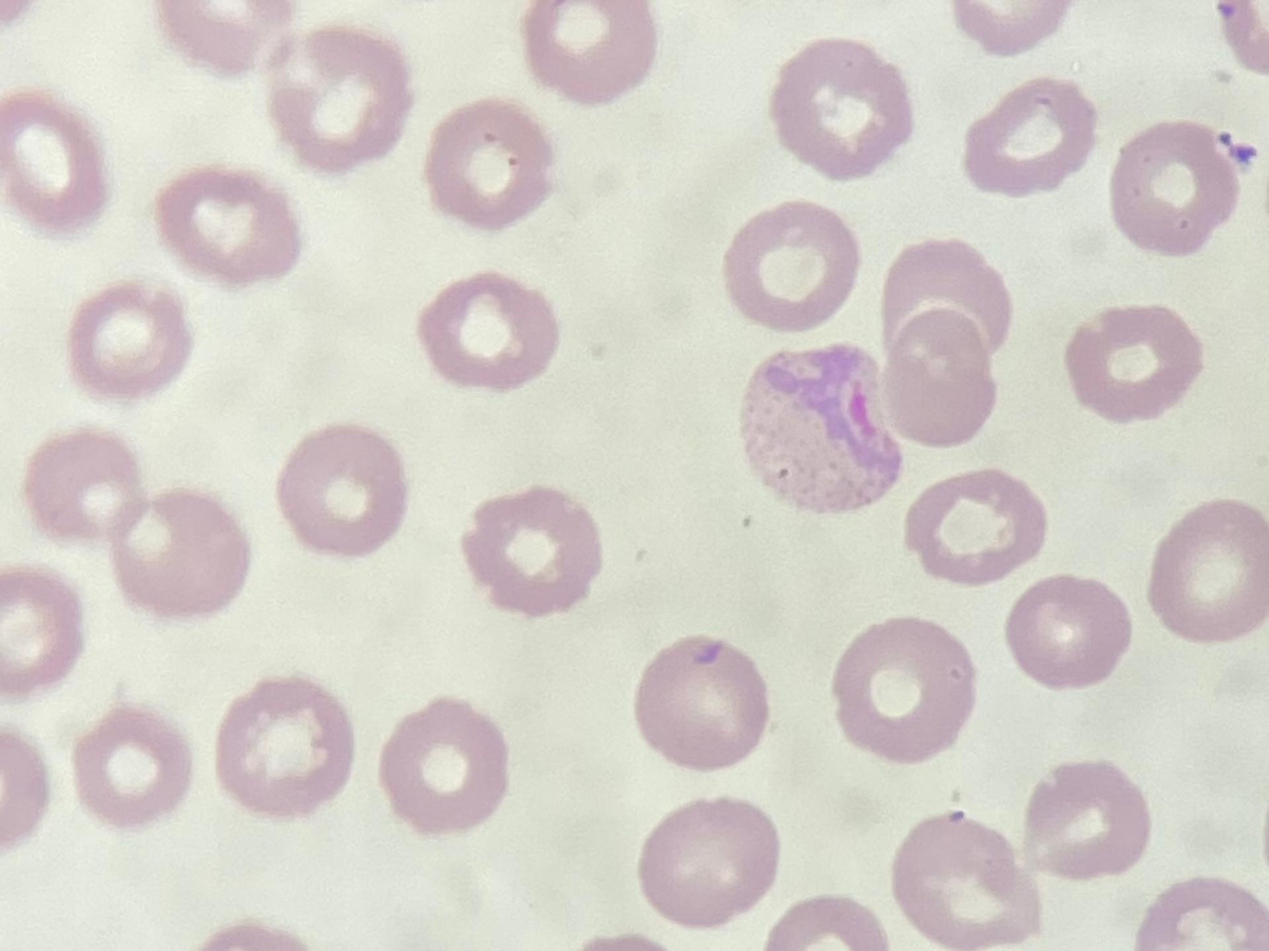Infected: (368, 437, 529, 607)
Uninfected: (293, 189, 436, 332), (855, 779, 1001, 919), (354, 771, 499, 911), (231, 3, 377, 138), (917, 133, 1054, 267), (27, 695, 161, 832), (760, 113, 890, 253), (1019, 332, 1160, 461), (667, 334, 806, 463), (490, 24, 628, 152), (268, 504, 390, 648), (409, 620, 543, 749), (500, 180, 631, 311), (714, 720, 845, 850), (861, 394, 993, 523), (65, 527, 204, 647), (0, 307, 120, 446), (968, 664, 1108, 783), (169, 754, 305, 875), (711, 559, 849, 677), (221, 364, 362, 479), (256, 591, 390, 712), (120, 71, 249, 191), (1159, 716, 1268, 851), (1077, 124, 1197, 245), (1077, 552, 1201, 667), (138, 262, 264, 375), (611, 847, 743, 950), (1126, 410, 1244, 519), (1186, 256, 1269, 375), (3, 2, 128, 71)
